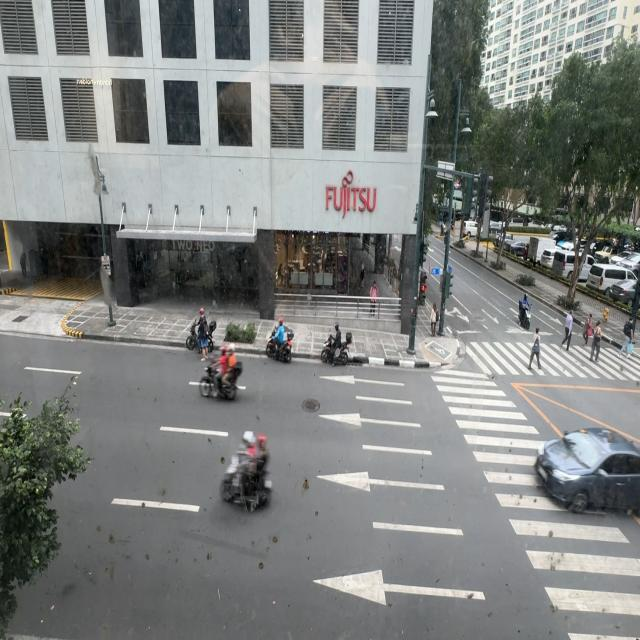crossing: (561, 304, 574, 352), (528, 327, 542, 370), (589, 321, 603, 363), (621, 318, 636, 356), (581, 313, 593, 348)
pedestrain: (430, 302, 438, 337)
